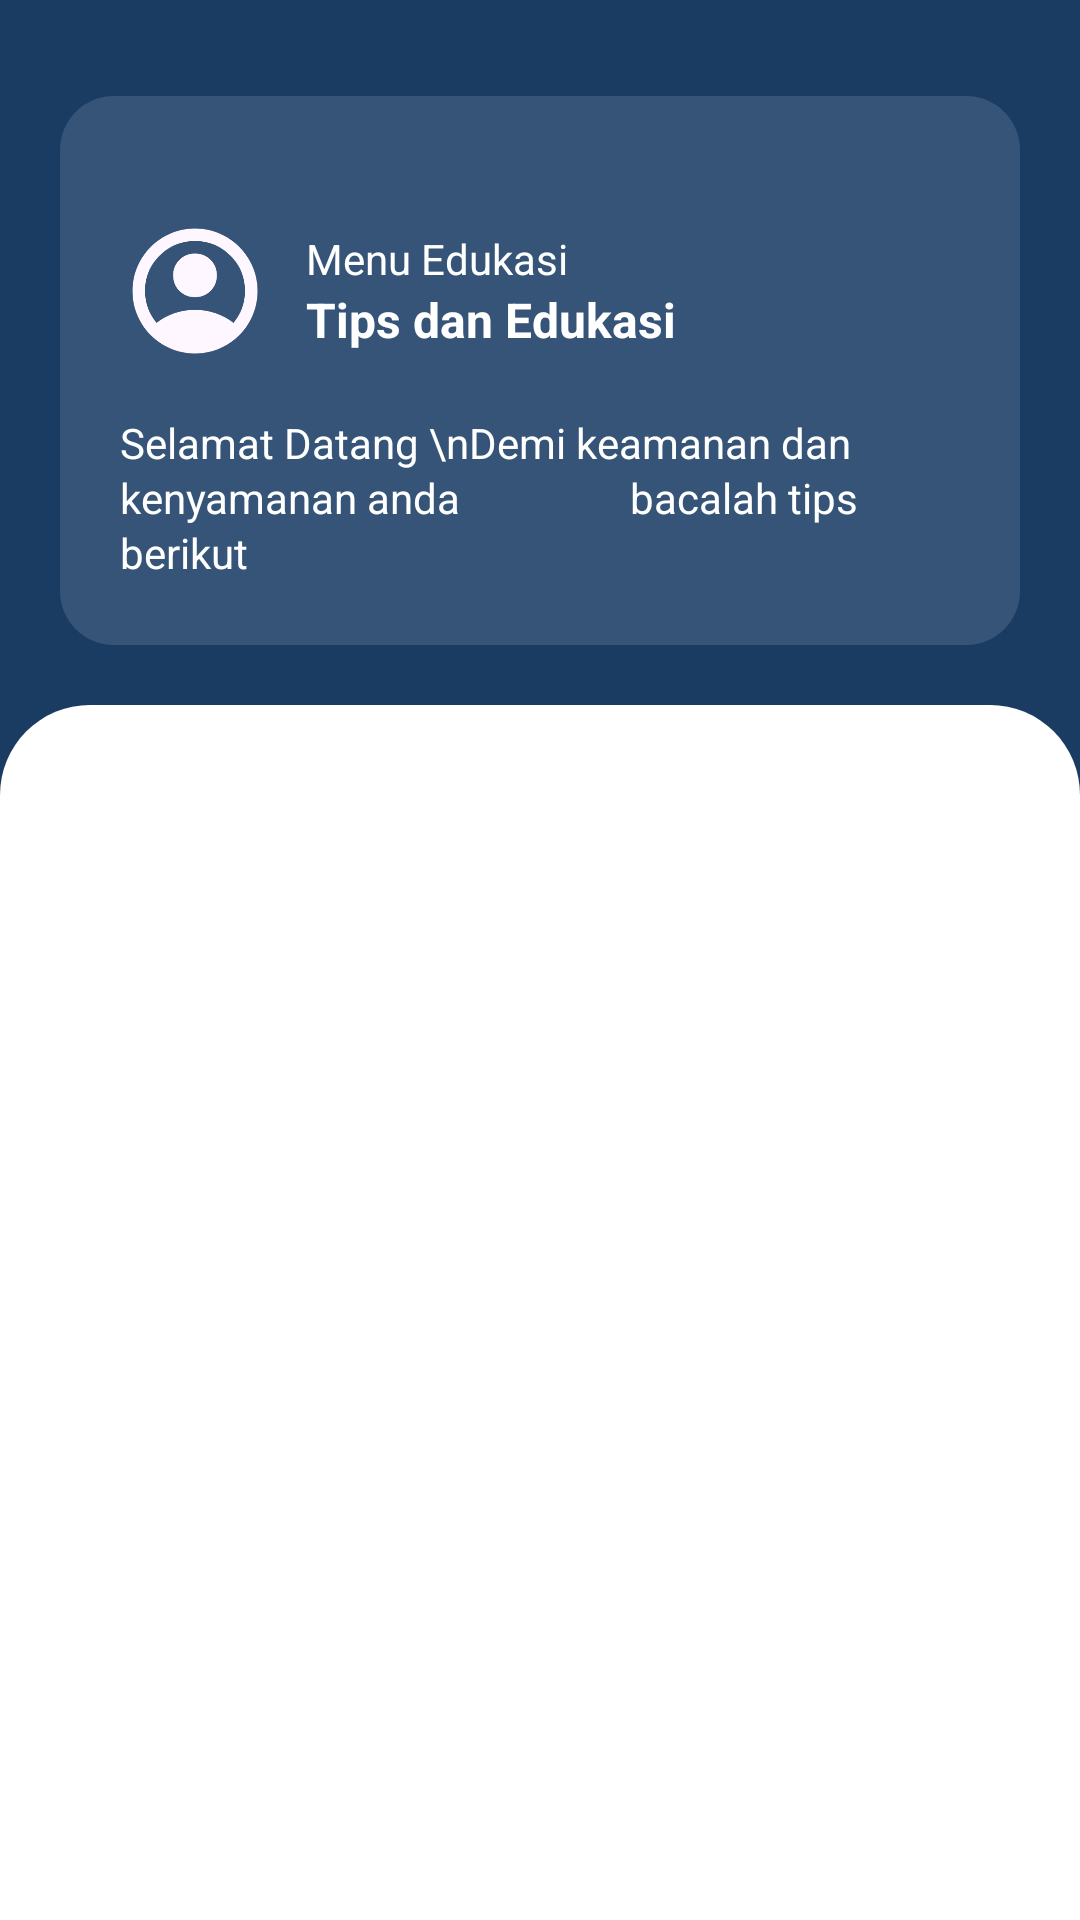

Screen size 1080*1920. Icon name, then its center in pixels as (x,y):
User Profile Icon: (195,291)
